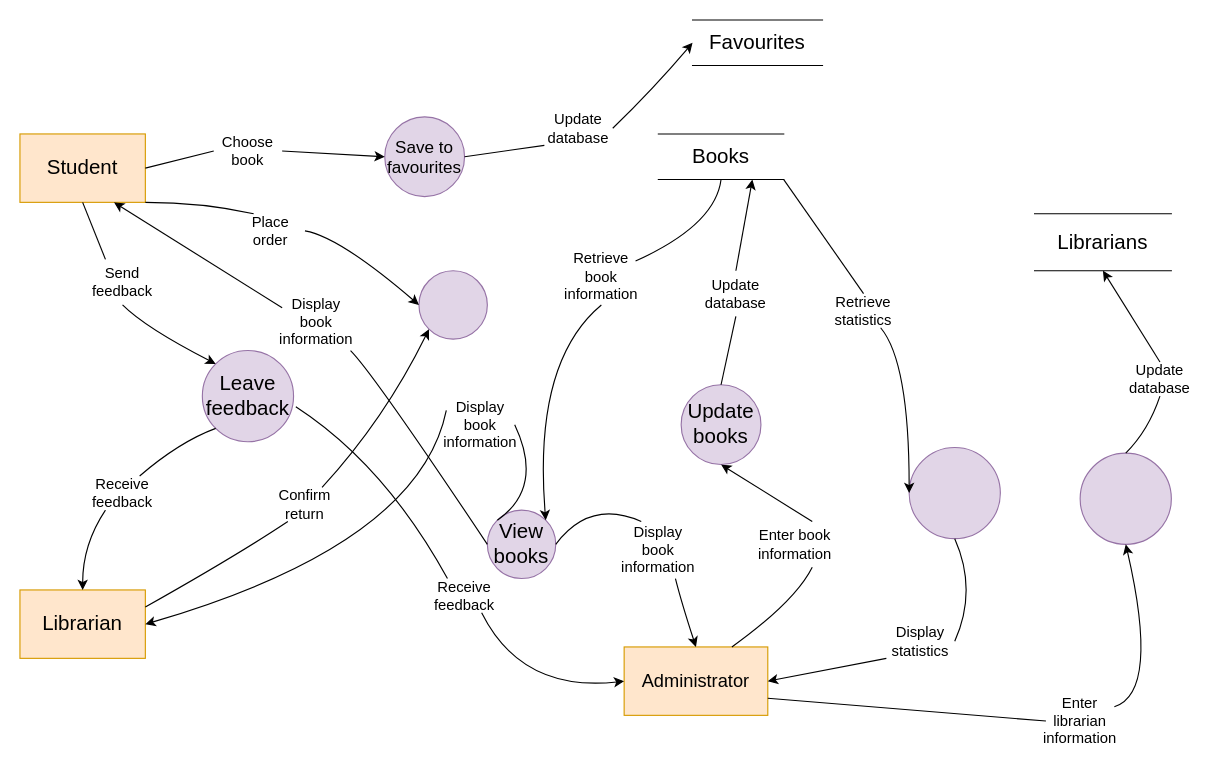
Some shapes in this 1214 by 770 pixel diagram are drawn without their labels. The shapes that lost their labels are listed below. From the top down, each one's centre as x and y in pixels, then its label:
At (452,304): "Order".
At (954,492): "View statistics".
At (1125,498): "Manage librarians".
